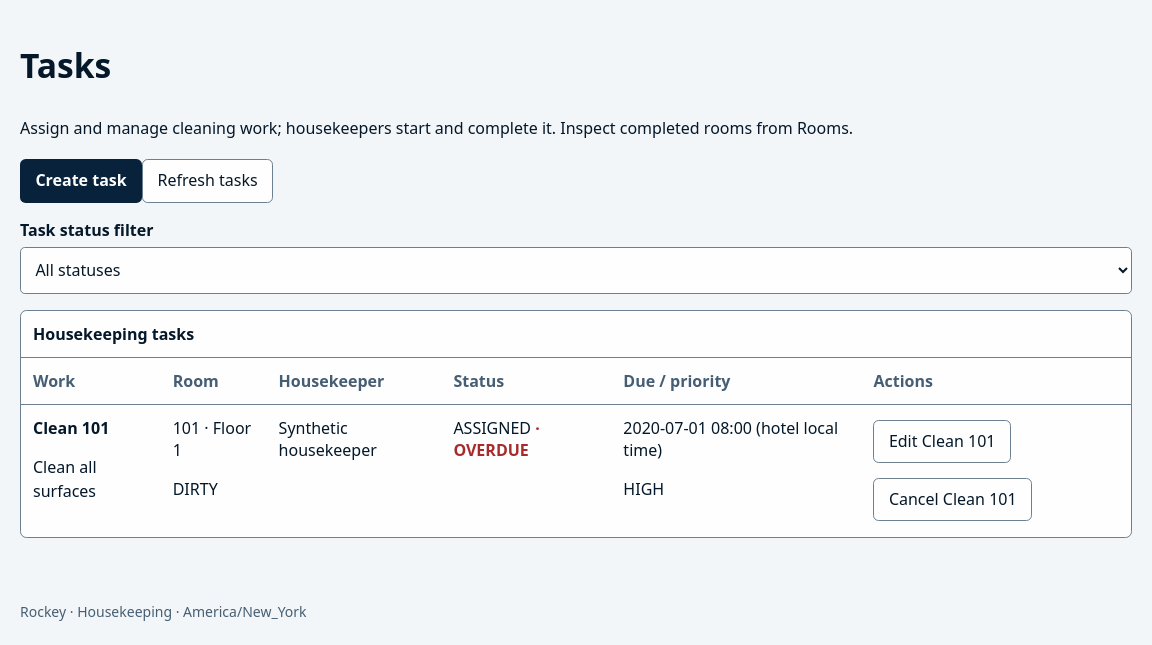
Verified form and write safeguards › /tasks permits an explicit retry after confirmed 409 without read reconciliation
(page scrolled)
Step 1. Click the button "Edit Clean 101" → click(942, 442), box [874,420,1011,464]
(page scrolled)
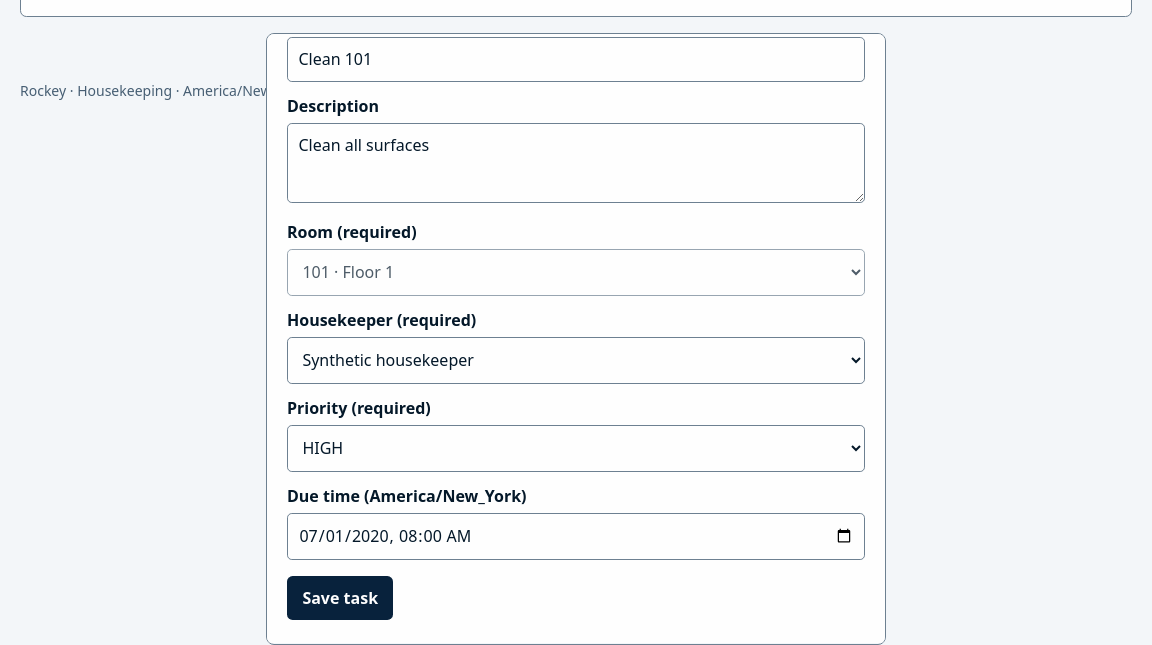
Step 2. Click the button "Save task" → click(340, 598), box [287,576,394,620]
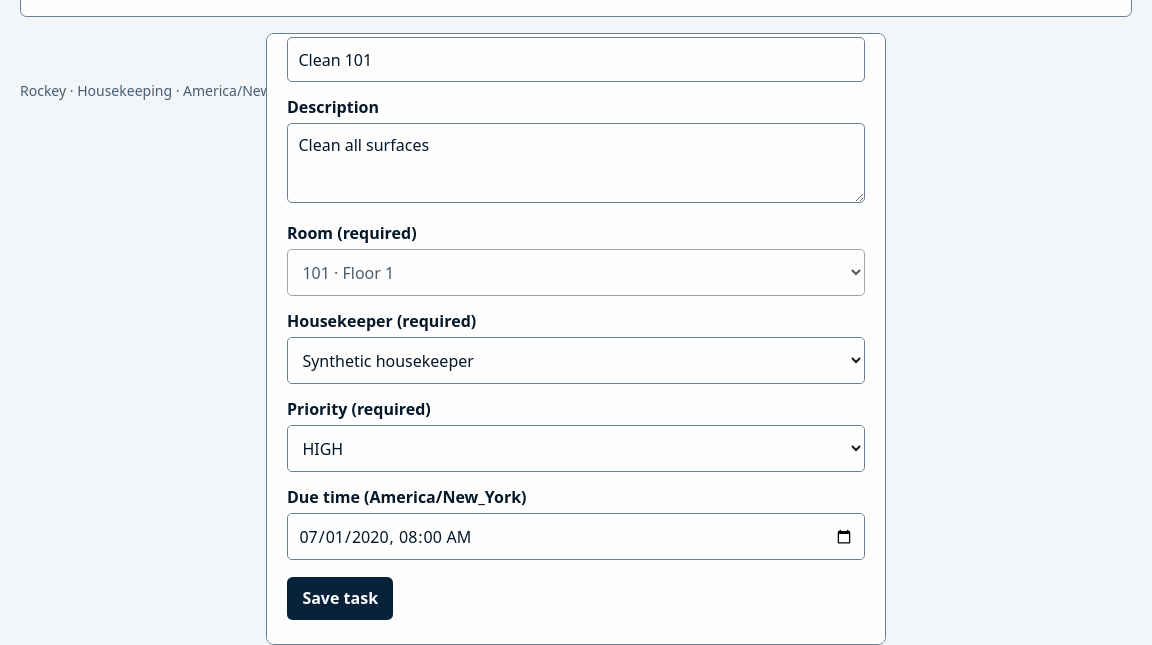
Step 3. Click the button "Save task" → click(340, 599), box [287,577,394,620]
(page scrolled)
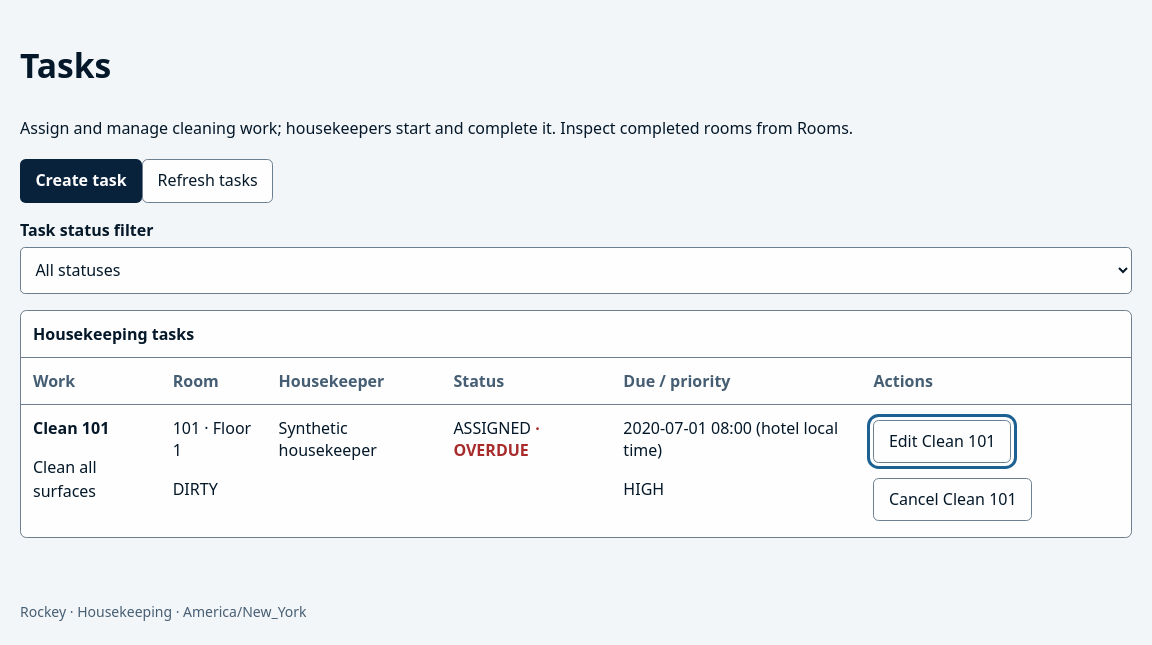
Now the dialog is gone
